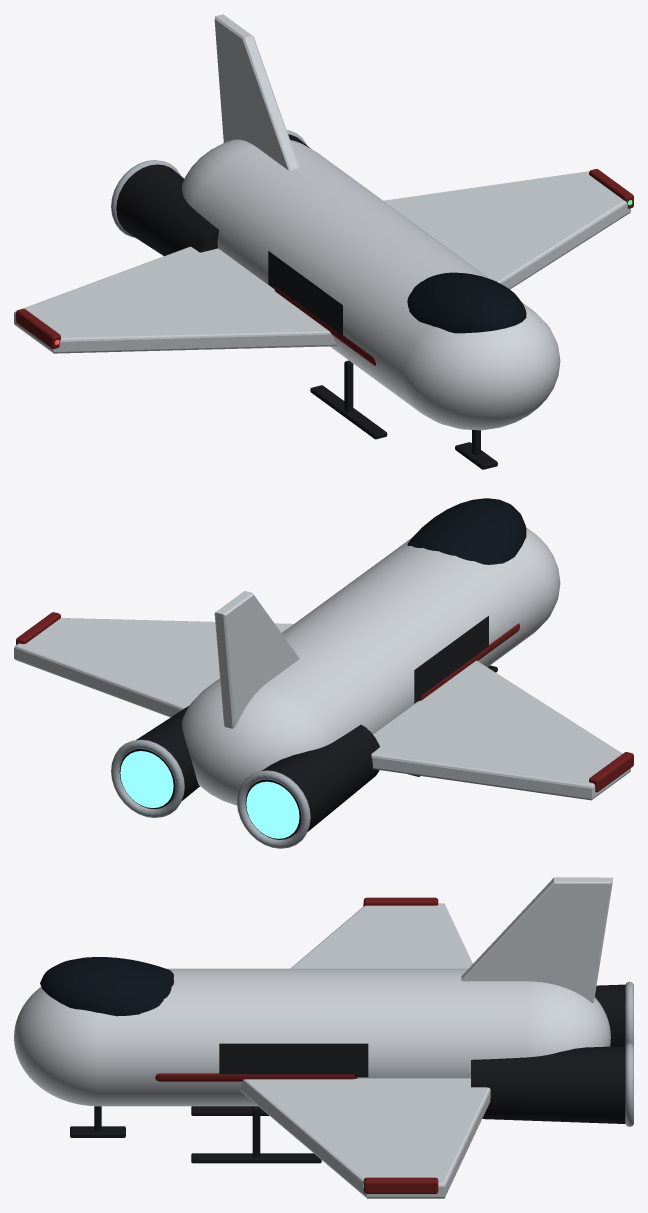
The model's file is Lanzadera_ORION4.glb.
3 renders of one model, top to bottom at view 1: azimuth 30°, elevation 25°; view 2: azimuth 150°, elevation 25°; view 3: azimuth 270°, elevation 25°, orthographic.
Visible parts, largest first — view 1: Lanzadera_ORION4; view 2: Lanzadera_ORION4; view 3: Lanzadera_ORION4.
Boxes of the visible parts, x1,y1,x2,y2 form: Lanzadera_ORION4: (14,14,633,469); Lanzadera_ORION4: (14,498,633,848); Lanzadera_ORION4: (14,877,633,1198).
Bounding box in the file's own units: 7.22 × 3.05 × 6.65.
